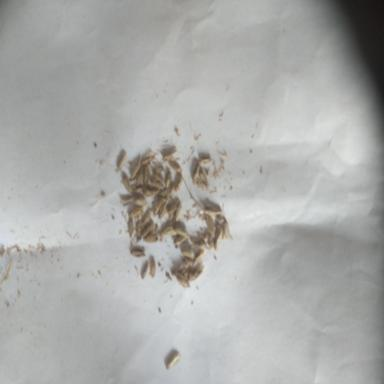pbw: (132, 153, 142, 180), (204, 215, 215, 238), (116, 148, 126, 172), (214, 224, 222, 252), (199, 200, 219, 211), (142, 220, 154, 237), (163, 146, 177, 160), (153, 198, 165, 214), (140, 154, 157, 165), (192, 250, 204, 265), (120, 196, 136, 207), (189, 268, 203, 280), (170, 158, 182, 172), (193, 163, 200, 186), (199, 170, 209, 186), (174, 228, 190, 238), (129, 207, 143, 218), (176, 276, 190, 287), (132, 198, 148, 207), (122, 174, 130, 192), (142, 209, 151, 225), (168, 198, 179, 211), (175, 202, 182, 222), (175, 174, 183, 191), (172, 268, 185, 278), (164, 171, 172, 187), (193, 241, 207, 250), (181, 250, 195, 259), (141, 262, 149, 277), (224, 221, 231, 238), (144, 168, 151, 184), (149, 181, 163, 189), (160, 227, 176, 234), (130, 249, 144, 257), (199, 156, 211, 164), (145, 188, 157, 196), (146, 233, 158, 241), (176, 235, 186, 244), (137, 220, 142, 236), (150, 256, 154, 276), (129, 218, 133, 238), (134, 187, 143, 194), (154, 173, 162, 180)
